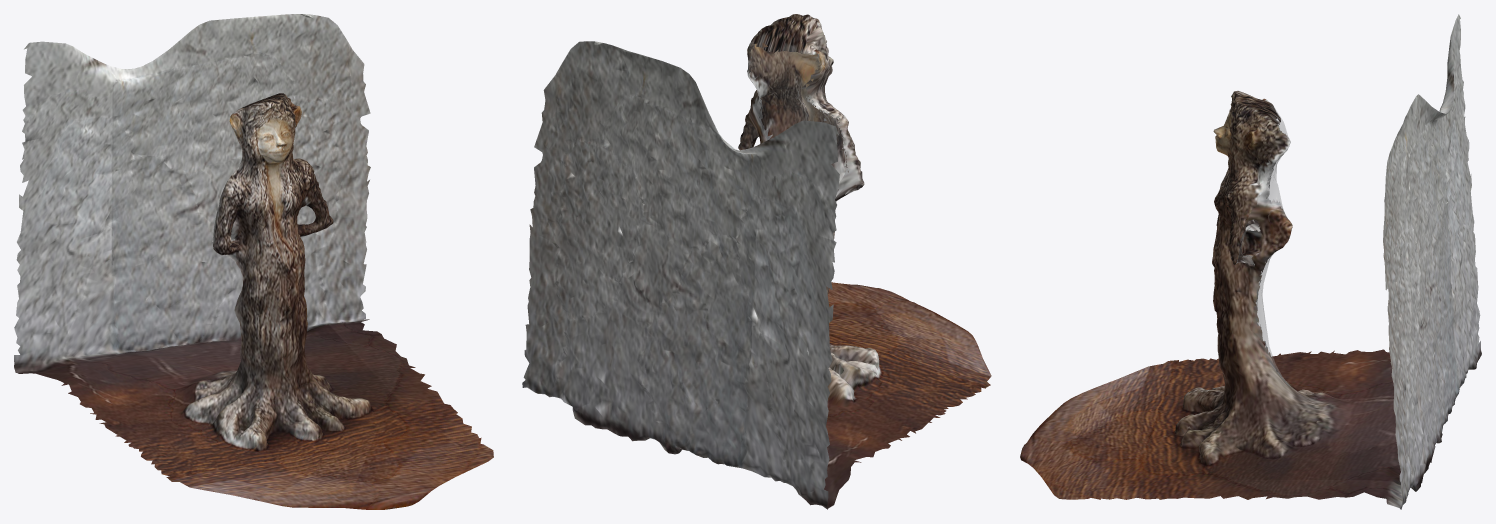
The model's file is boomVrouw.glb.
3 renders of one model, left to right at view 1: azimuth 30°, elevation 25°; view 2: azimuth 150°, elevation 25°; view 3: azimuth 270°, elevation 25°, orthographic. The views are drawn at different scales.
Visible parts, largest first — view 1: boomVrouw; view 2: boomVrouw; view 3: boomVrouw.
Boxes of the visible parts, x1=… form: boomVrouw: x1=14, y1=14, x2=493, y2=509; boomVrouw: x1=522, y1=14, x2=991, y2=509; boomVrouw: x1=1020, y1=14, x2=1481, y2=509.
Size of the model in its own units: 19.79 by 21 by 24.48.
2 materials, 1 textured.
